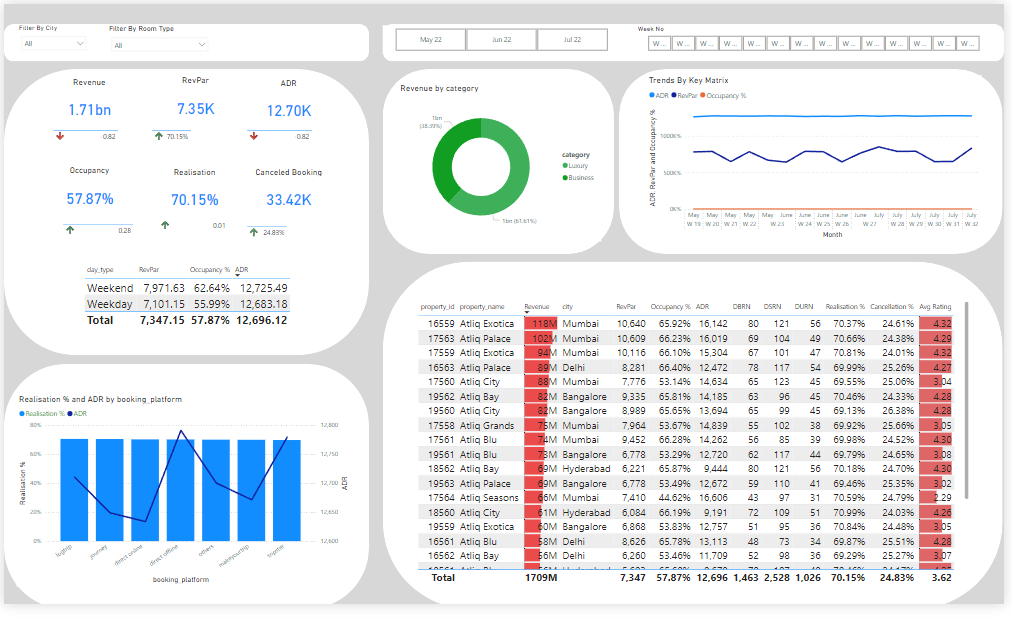

This screenshot's page, from the dashboard's own definition file:
{"tool":"powerbi","page":{"name":"Page 1","canvas":[2000,1200],"ordinal":0},"visuals":[{"type":"tableEx","fields":{"Values":["key_measures.Occupancy WoW change %"]},"box":[112.3,411.5,191.6,63.9],"z":0,"group":"g1"},{"type":"shape","box":[757.5,515,1240,695],"z":0},{"type":"tableEx","fields":{"Values":["key_measures.Realisation WoW change %"]},"box":[303.4,402.7,168.7,75],"z":1000,"group":"g1"},{"type":"shape","box":[0,720,730,490],"z":1000},{"type":"slicer","title":"Filter By City","fields":{"Values":["dim_hotels.city"]},"box":[25.7,40,149.4,58.4],"z":2000,"group":"g2"},{"type":"shape","box":[0,130,730,572.5],"z":2000},{"type":"tableEx","fields":{"Values":["key_measures.Cancellation  %"]},"box":[479.5,417,167.1,57.8],"z":2000,"group":"g1"},{"type":"slicer","title":"Filter By Room Type","fields":{"Values":["dim_rooms.room_class"]},"box":[206.9,40,213.1,58.4],"z":3000,"group":"g2"},{"type":"shape","box":[1230,130,767.5,370],"z":3000},{"type":"slicer","fields":{"Values":["dim_dates.mmm yy"]},"box":[757.5,42.5,473.4,57.5],"z":4000,"group":"g3"},{"type":"shape","box":[757.5,130,462.5,370],"z":4000},{"type":"shape","box":[757.5,40,1242.5,75],"z":5000},{"type":"slicer","title":"Week No","fields":{"Values":["dim_dates.week no"]},"box":[1263.1,42.5,711.9,57.5],"z":5000,"group":"g3"},{"type":"shape","box":[0,40,730,75],"z":6000},{"type":"card","title":"Revenue","fields":{"Values":["key_measures.Revenue"]},"box":[92.5,145.7,156.4,110.2],"z":6000,"group":"g1"},{"type":"tableEx","fields":{"Values":["key_measures.Revenue WoW change %"]},"box":[92.5,224.1,168.7,63.9],"z":7000,"group":"g1"},{"type":"tableEx","fields":{"Values":["dim_hotels.property_id","dim_hotels.property_name","key_measures.Revenue","dim_hotels.city","key_measures.RevPar","key_measures.Occupancy %","key_measures.ADR","key_measures.DBRN","key_measures.DSRN","key_measures.DURN","key_measures.Realisation %","key_measures.Cancellation  %"]},"box":[822.5,590,1112.5,575],"z":7000},{"type":"donutChart","fields":{"Category":["dim_hotels.category"],"Y":["key_measures.Revenue"]},"box":[787.5,157.5,407.5,317.5],"z":8000},{"type":"card","title":"RevPar","fields":{"Values":["key_measures.RevPar"]},"box":[303.8,142.5,156.4,110.2],"z":9000,"group":"g1"},{"type":"lineChart","title":"Trends By Key Matrix","fields":{"Category":["dim_dates.week no","dim_dates.mmm yy.Variation.Date Hierarchy.Month"],"Y":["key_measures.ADR","key_measures.RevPar","key_measures.Occupancy %"]},"box":[1285,142.5,670,332.5],"z":9000},{"type":"group","id":"g1","title":"Group 1","box":[92.5,142.5,555,335],"z":10000},{"type":"card","title":"ADR","fields":{"Values":["key_measures.ADR"]},"box":[489.1,147.3,158.4,110.2],"z":10000,"group":"g1"},{"type":"tableEx","fields":{"Values":["key_measures.Realisation %"]},"box":[289.5,225,185.1,62.5],"z":11000,"group":"g1"},{"type":"lineStackedColumnComboChart","fields":{"Category":["fact_bookings.booking_platform"],"Y":["key_measures.Realisation %"],"Y2":["key_measures.ADR"]},"box":[25,780,670,385],"z":11000},{"type":"group","id":"g2","title":"Group 2","box":[25.7,40,394.3,58.6],"z":12000},{"type":"tableEx","fields":{"Values":["key_measures.Revenue WoW change %"]},"box":[479,224.9,168.6,63.7],"z":12000,"group":"g1"},{"type":"card","title":"Occupancy ","fields":{"Values":["key_measures.Occupancy %"]},"box":[92.5,322.7,157.2,109.7],"z":13000,"group":"g1"},{"type":"tableEx","fields":{"Values":["dim_dates.day_type","key_measures.RevPar","key_measures.Occupancy %","key_measures.ADR"]},"box":[155,515,430,150],"z":13000},{"type":"group","id":"g3","title":"Group 3","box":[757.5,42.5,1217.5,57.5],"z":14000},{"type":"card","title":"Realisation","fields":{"Values":["key_measures.Realisation %"]},"box":[303.4,325,157.2,109.7],"z":14000,"group":"g1"},{"type":"card","title":"Canceled Booking","fields":{"Values":["key_measures.Total Cancelled Booking"]},"box":[493.6,325.7,153.9,109.7],"z":15000,"group":"g1"}]}

Visuals, with their boxes in screenshot pixels (x1, y1, x2, y2), scaled from the page's 2000x1200 canvas onto the 1012x619 screenshot:
tableEx - key_measures.Occupancy WoW change %: bbox=(57, 212, 154, 245)
shape: bbox=(383, 266, 1011, 618)
tableEx - key_measures.Realisation WoW change %: bbox=(154, 208, 239, 246)
shape: bbox=(0, 371, 369, 618)
"Filter By City" slicer: bbox=(13, 21, 89, 51)
shape: bbox=(0, 67, 369, 362)
tableEx - key_measures.Cancellation  %: bbox=(243, 215, 327, 245)
"Filter By Room Type" slicer: bbox=(105, 21, 213, 51)
shape: bbox=(622, 67, 1011, 258)
slicer - dim_dates.mmm yy: bbox=(383, 22, 623, 52)
shape: bbox=(383, 67, 617, 258)
shape: bbox=(383, 21, 1011, 59)
"Week No" slicer: bbox=(639, 22, 999, 52)
shape: bbox=(0, 21, 369, 59)
"Revenue" card: bbox=(47, 75, 126, 132)
tableEx - key_measures.Revenue WoW change %: bbox=(47, 116, 132, 149)
tableEx - dim_hotels.property_id x dim_hotels.property_name: bbox=(416, 304, 979, 601)
donutChart - dim_hotels.category x key_measures.Revenue: bbox=(398, 81, 605, 245)
"RevPar" card: bbox=(154, 74, 233, 130)
"Trends By Key Matrix" lineChart: bbox=(650, 74, 989, 245)
"Group 1" group: bbox=(47, 74, 328, 246)
"ADR" card: bbox=(247, 76, 328, 133)
tableEx - key_measures.Realisation %: bbox=(146, 116, 240, 148)
lineStackedColumnComboChart - fact_bookings.booking_platform x key_measures.Realisation %: bbox=(13, 402, 352, 601)
"Group 2" group: bbox=(13, 21, 213, 51)
tableEx - key_measures.Revenue WoW change %: bbox=(242, 116, 328, 149)
"Occupancy " card: bbox=(47, 166, 126, 223)
tableEx - dim_dates.day_type x key_measures.RevPar: bbox=(78, 266, 296, 343)
"Group 3" group: bbox=(383, 22, 999, 52)
"Realisation" card: bbox=(154, 168, 233, 224)
"Canceled Booking" card: bbox=(250, 168, 328, 225)
